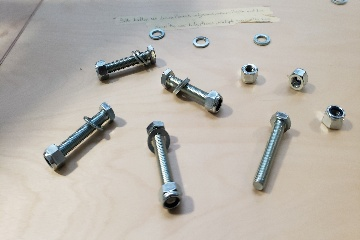Bolt: (250, 111, 294, 194)
FalseAssembly: (40, 101, 119, 171), (143, 118, 187, 214)
FinishedAssembly: (158, 68, 228, 120), (94, 45, 155, 81)
Nut: (319, 103, 348, 130), (287, 67, 309, 94), (237, 64, 260, 86)
Washer: (189, 35, 213, 49), (252, 34, 273, 47), (148, 27, 165, 41)
